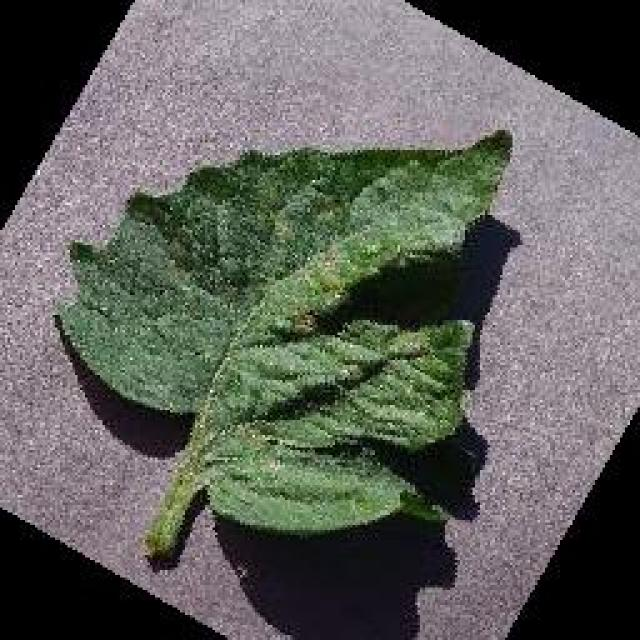Tomato___Target_Spot: (58, 130, 508, 555)
